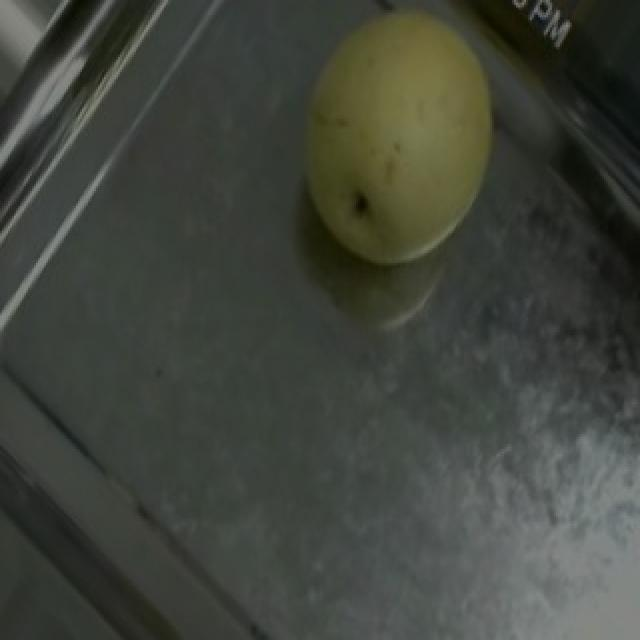Fruit: (254, 0, 532, 295)
